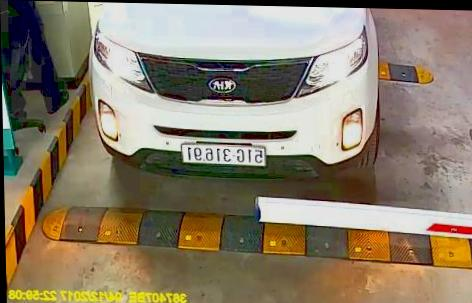License_Plate: (181, 143, 266, 170)
